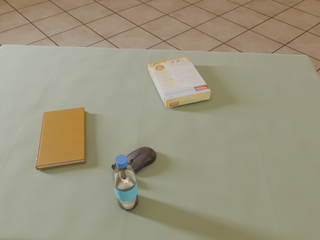book: (36, 107, 86, 170)
bottle: (113, 155, 138, 210)
box: (148, 56, 211, 108)
mouse: (111, 147, 156, 173)
